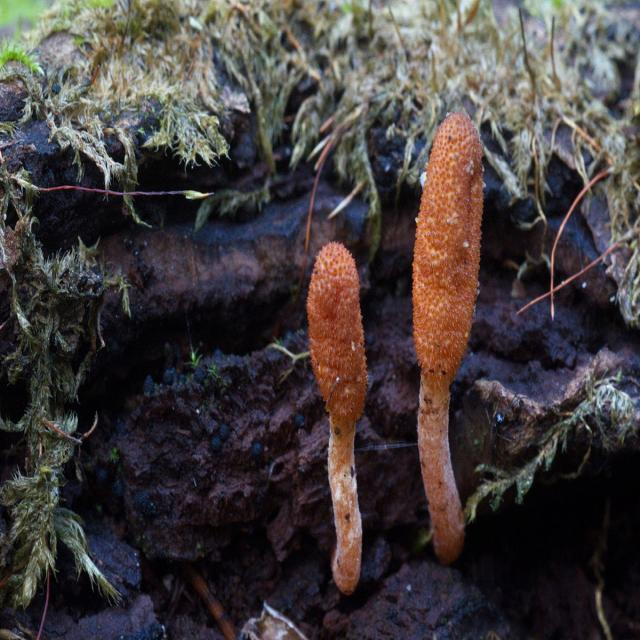Cordyceps militaris: (414, 115, 484, 564), (307, 242, 372, 590)
